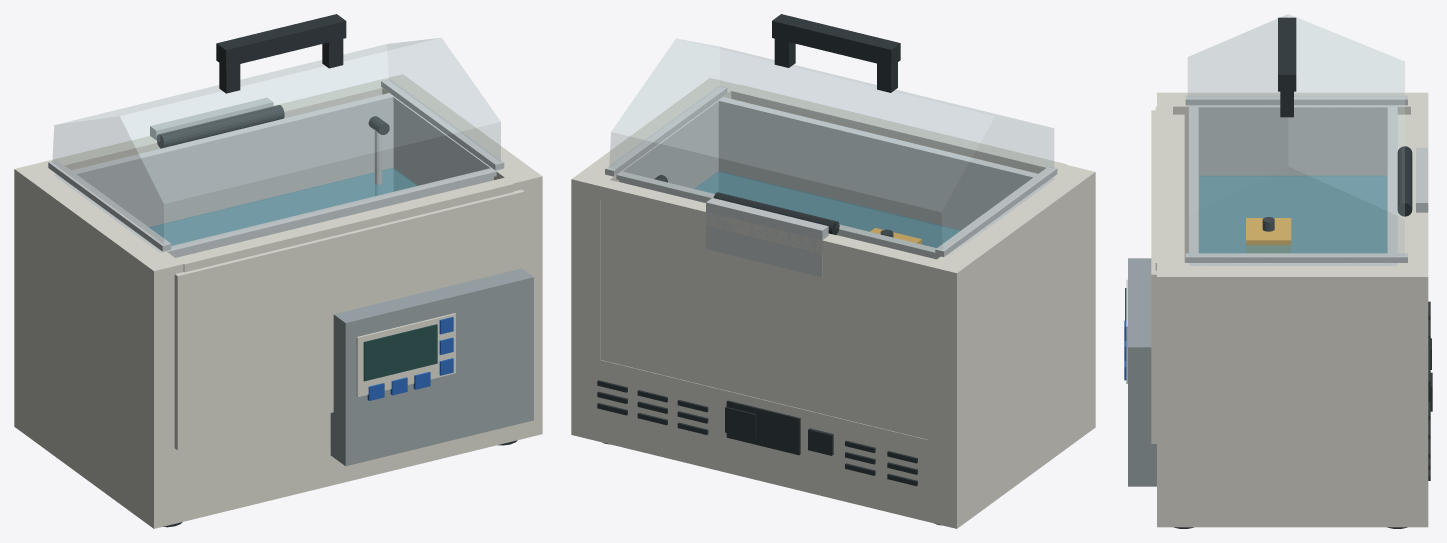
File: isotemp-gpd05.glb
3 renders of one model, left to right at view 1: azimuth 30°, elevation 25°; view 2: azimuth 150°, elevation 25°; view 3: azimuth 270°, elevation 25°, orthographic. The views are drawn at different scales.
Parts seen in each view (by area): view 1: clear_gable, outer_end_wall, enamel_lower_shell, outer_side_wall, control_pod, tank_end.001, water_surface, enamel_upper_rim_end, upper_rim_side_l, tank_side.001, lid_handle, stainless_lip_fore_aft (+12 smaller); view 2: clear_gable, outer_end_wall.001, enamel_lower_shell, outer_side_wall, tank_end, enamel_upper_rim_end.001, rear_hinge_plate, enamel_upper_rim_end, water_surface, upper_rim_side_l, outer_side_wall.001, tank_side.001 (+10 smaller); view 3: clear_gable, outer_side_wall.001, tank_side, enamel_lower_shell, water_surface, upper_rim_side_r, control_pod, outer_end_wall, enamel_upper_rim_end, gable_side_rim, gable_side_rim.001, enamel_upper_rim_end.001 (+12 smaller).
Part boxes in pixels (left/top/right/bottom): clear_gable: left=52, top=38, right=500, bottom=247; outer_end_wall: left=174, top=189, right=524, bottom=450; enamel_lower_shell: left=14, top=351, right=542, bottom=528; outer_side_wall: left=14, top=178, right=174, bottom=453; control_pod: left=330, top=268, right=533, bottom=466; tank_end.001: left=81, top=101, right=393, bottom=245; water_surface: left=149, top=168, right=417, bottom=245; enamel_upper_rim_end: left=176, top=177, right=513, bottom=272; upper_rim_side_l: left=14, top=162, right=183, bottom=282; tank_side.001: left=393, top=102, right=493, bottom=191; lid_handle: left=216, top=14, right=346, bottom=67; stainless_lip_fore_aft: left=159, top=168, right=499, bottom=255; clear_gable: left=609, top=38, right=1053, bottom=252; outer_end_wall.001: left=601, top=182, right=936, bottom=439; enamel_lower_shell: left=571, top=353, right=1095, bottom=528; outer_side_wall: left=927, top=180, right=1095, bottom=453; tank_end: left=718, top=105, right=1027, bottom=247; enamel_upper_rim_end.001: left=600, top=180, right=935, bottom=279; rear_hinge_plate: left=706, top=198, right=828, bottom=277; enamel_upper_rim_end: left=731, top=84, right=1066, bottom=173; water_surface: left=695, top=171, right=960, bottom=247; upper_rim_side_l: left=927, top=164, right=1095, bottom=286; outer_side_wall.001: left=571, top=181, right=618, bottom=360; tank_side.001: left=619, top=106, right=718, bottom=193; clear_gable: left=1188, top=14, right=1404, bottom=255; outer_side_wall.001: left=1157, top=284, right=1428, bottom=453; tank_side: left=1198, top=111, right=1387, bottom=253; enamel_lower_shell: left=1157, top=447, right=1428, bottom=527; water_surface: left=1199, top=175, right=1386, bottom=253; upper_rim_side_r: left=1157, top=263, right=1428, bottom=290; control_pod: left=1128, top=258, right=1156, bottom=486; outer_end_wall: left=1151, top=110, right=1184, bottom=443; enamel_upper_rim_end: left=1155, top=106, right=1172, bottom=270; gable_side_rim: left=1185, top=95, right=1407, bottom=105; gable_side_rim.001: left=1185, top=253, right=1407, bottom=262; enamel_upper_rim_end.001: left=1411, top=106, right=1428, bottom=262.
Size of the model in its own units: 0.355 by 0.3565 by 0.251.
